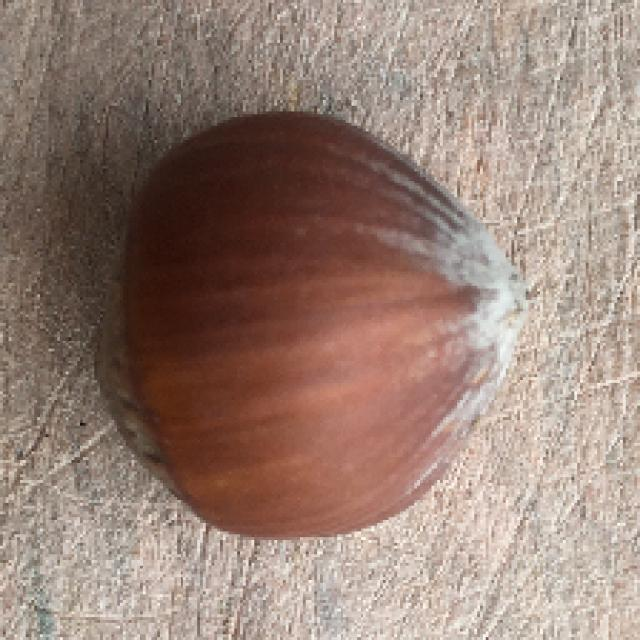qualityHazelnut: (103, 103, 509, 540)
